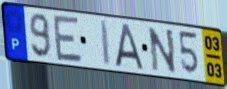5: (177, 29, 201, 78)
9: (29, 12, 54, 60)
A: (114, 22, 145, 71)
E: (52, 13, 85, 65)
I: (99, 19, 112, 68)
N: (147, 26, 178, 76)
